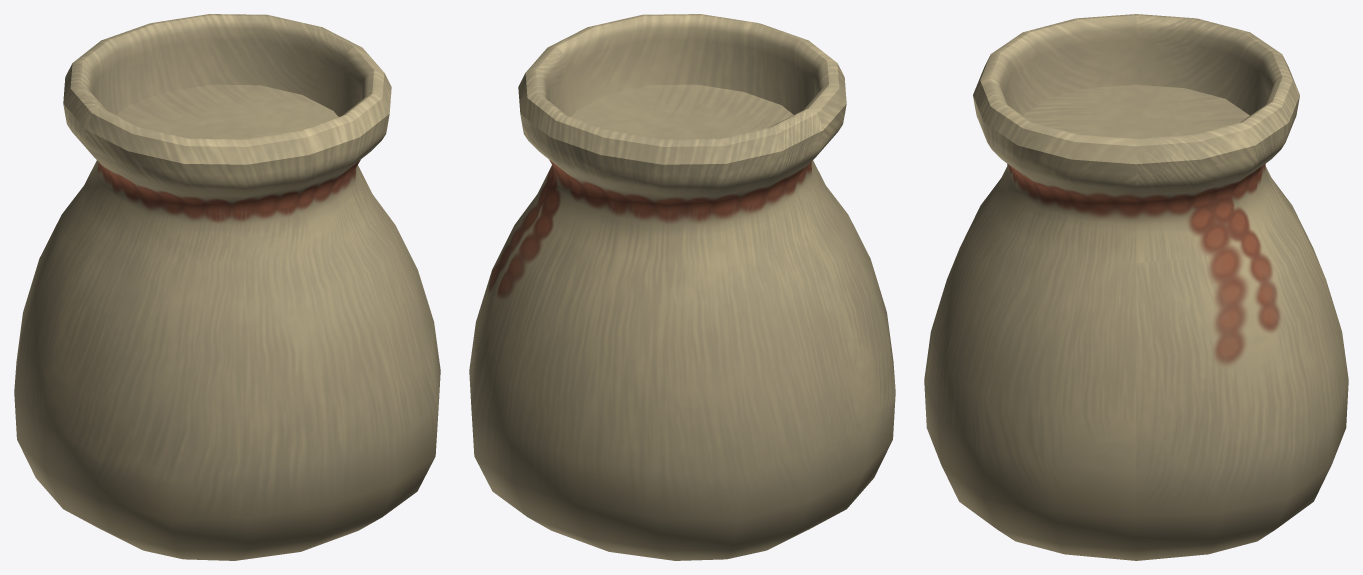
Rendered from Model_TexturaSacoAberto1_v1.fbx.
3 renders of one model, left to right at view 1: azimuth 30°, elevation 25°; view 2: azimuth 150°, elevation 25°; view 3: azimuth 270°, elevation 25°, orthographic.
Parts seen in each view (by area): view 1: saco cheio.002; view 2: saco cheio.002; view 3: saco cheio.002.
Boxes of the visible parts, x1,y1,x2,y2 form: saco cheio.002: (14, 14, 440, 560); saco cheio.002: (469, 14, 895, 560); saco cheio.002: (924, 14, 1348, 560).
Size of the model in its own units: 236 by 268 by 236.
